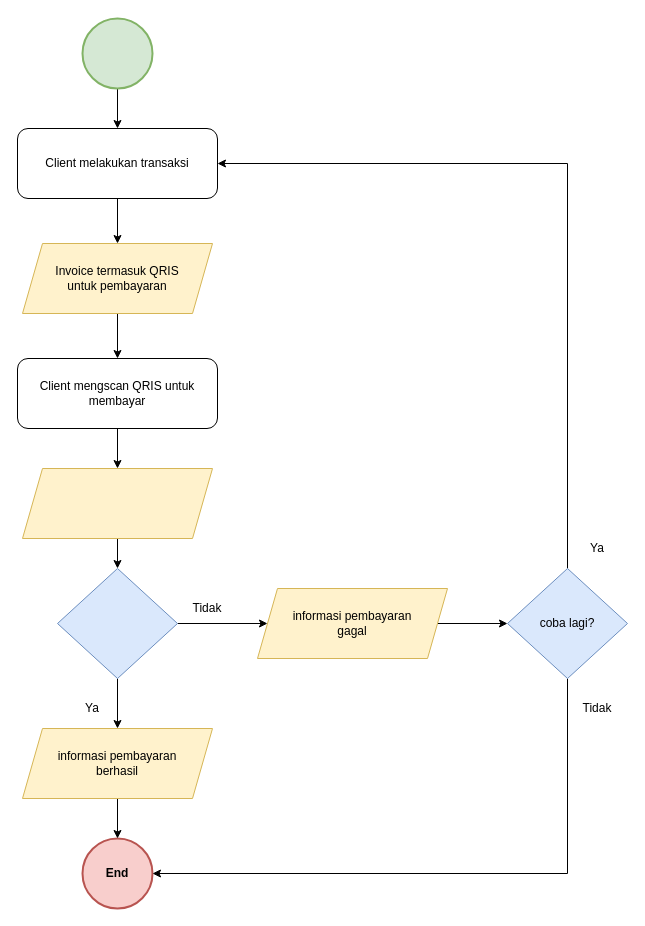
Some shapes in this 645 by 926 pixel diagram are drawn without their labels. Each missing label, with the centre of its shape:
"halaman menunggu hasil" goes at [117,503].
"pembayaran berhasil?" goes at [117,623].
"Start" goes at [117,53].
